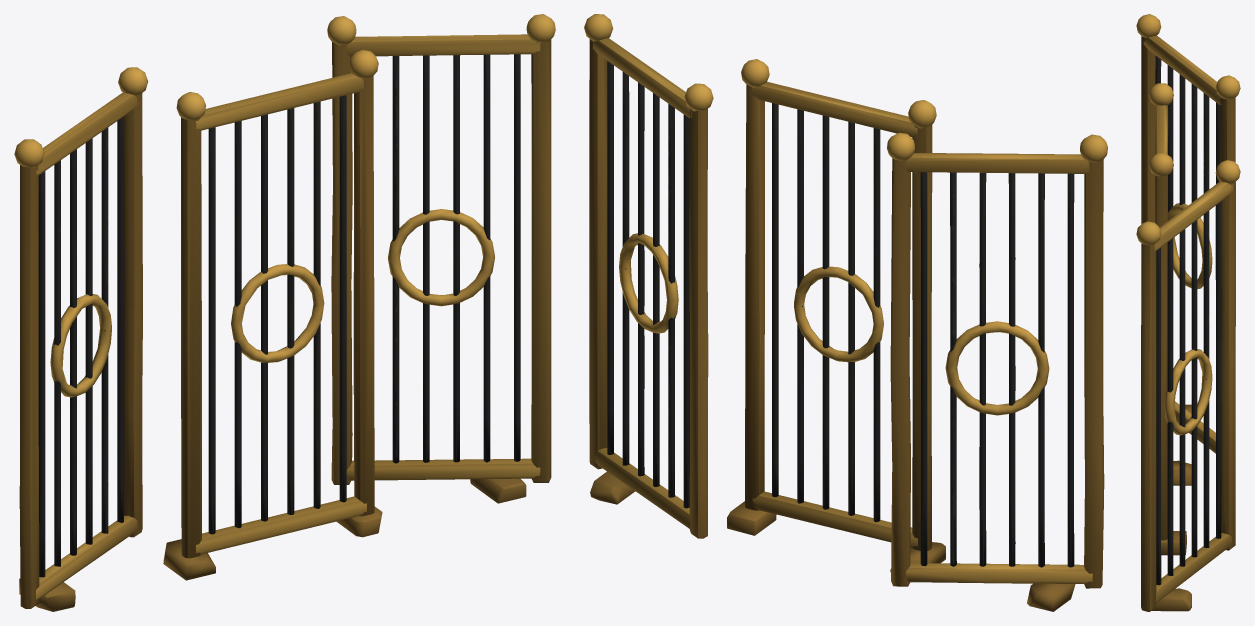
The model's file is ember_spark_guard.glb.
3 views of the same model, side by side, from view 1: azimuth 30°, elevation 25°; view 2: azimuth 150°, elevation 25°; view 3: azimuth 270°, elevation 25° (orthographic). The views are drawn at different scales.
Visible parts, largest first — view 1: ember_spark_guard; view 2: ember_spark_guard; view 3: ember_spark_guard.
Boxes of the visible parts, bbox=[...] form: ember_spark_guard: bbox=[14, 14, 555, 611]; ember_spark_guard: bbox=[584, 14, 1107, 611]; ember_spark_guard: bbox=[1136, 14, 1240, 611].
Bounding box in the file's own units: 28.65 × 24.3 × 5.8.
